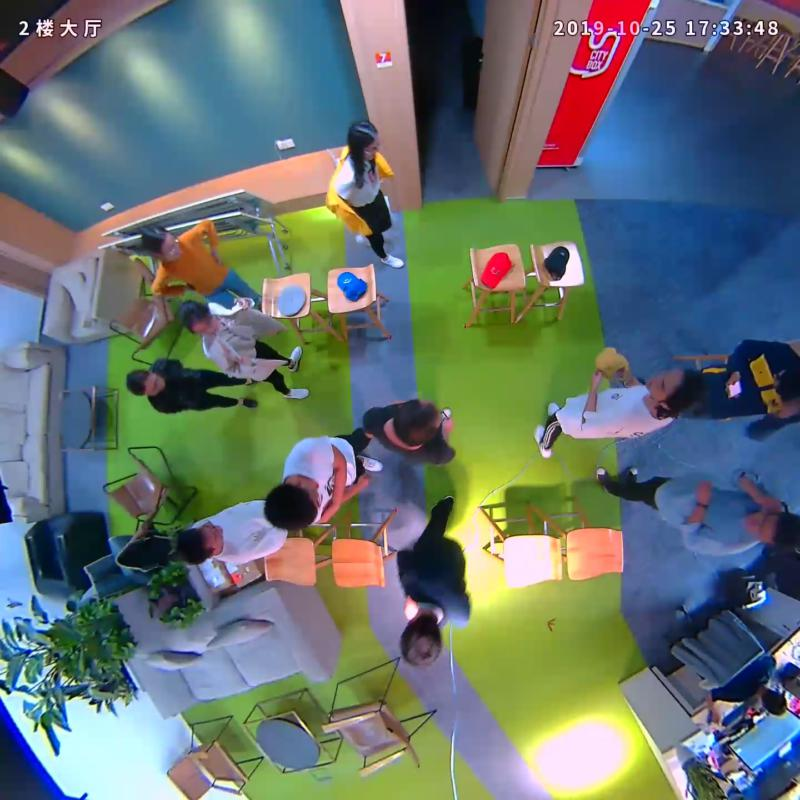head: (647, 366, 703, 413), (264, 482, 319, 529), (400, 612, 442, 668), (393, 399, 442, 445), (177, 525, 225, 565), (747, 510, 800, 545), (179, 300, 217, 336), (140, 226, 180, 260), (348, 119, 379, 162), (126, 368, 166, 397)
